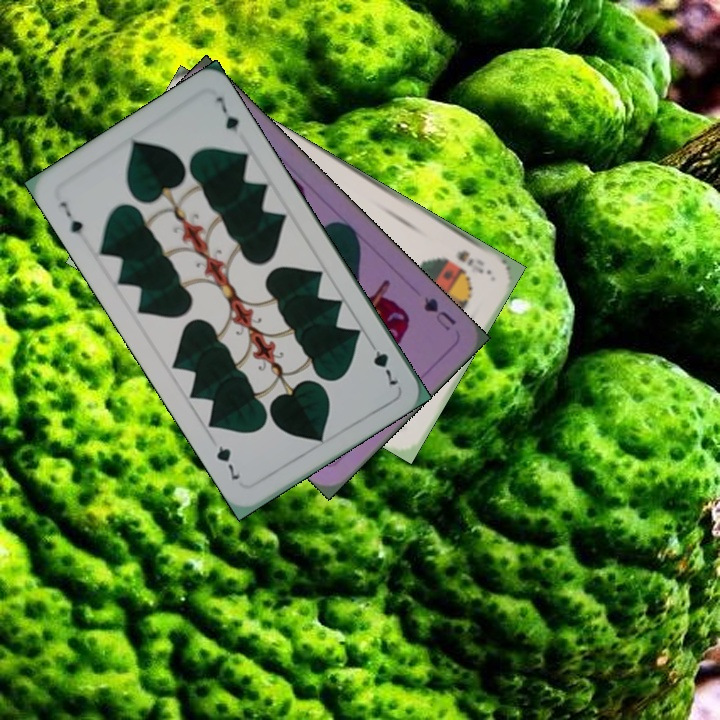G7: (364, 336, 404, 388), (56, 197, 85, 238)
GU: (419, 292, 459, 334)
SO: (452, 246, 487, 276)
